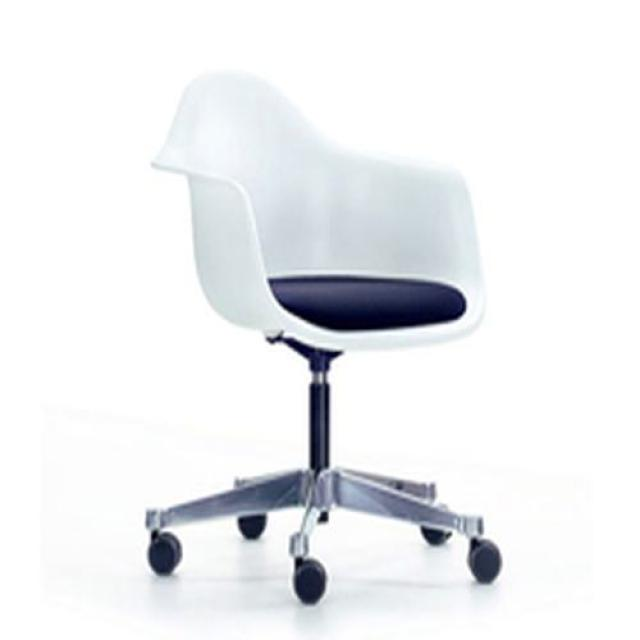swivelchair: (145, 70, 503, 609)
